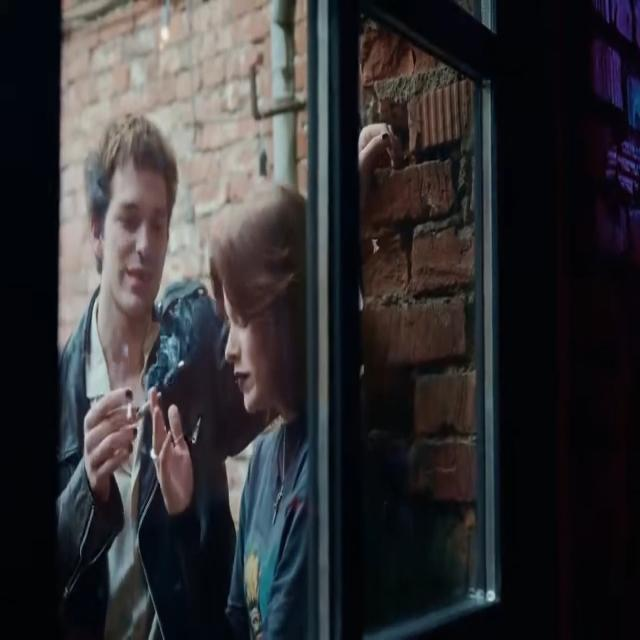Курение: (138, 383, 160, 423), (126, 399, 133, 425)
